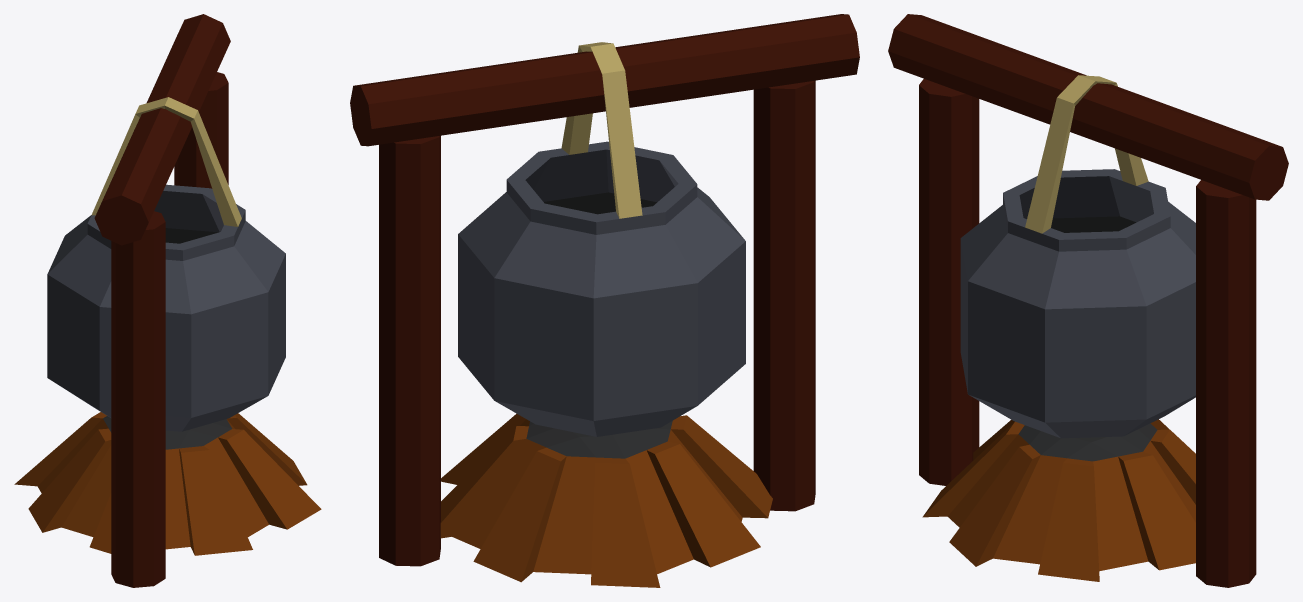
File: Campfire.fbx
3 renders of one model, left to right at view 1: azimuth 30°, elevation 25°; view 2: azimuth 150°, elevation 25°; view 3: azimuth 270°, elevation 25°, orthographic. The views are drawn at different scales.
Parts seen in each view (by area): view 1: Cylinder.050, Cylinder.051, Cube.025; view 2: Cylinder.051, Cylinder.050, Cube.025; view 3: Cylinder.051, Cylinder.050, Cube.025.
Boxes of the visible parts, x1=… form: Cylinder.050: x1=47, y1=97, x2=285, y2=431; Cylinder.051: x1=94, y1=14, x2=230, y2=587; Cube.025: x1=14, y1=412, x2=321, y2=555; Cylinder.051: x1=350, y1=14, x2=859, y2=566; Cylinder.050: x1=458, y1=42, x2=745, y2=436; Cube.025: x1=440, y1=413, x2=772, y2=587; Cylinder.051: x1=888, y1=14, x2=1288, y2=587; Cylinder.050: x1=960, y1=75, x2=1195, y2=438; Cube.025: x1=922, y1=419, x2=1195, y2=581.
Bounding box in the file's own units: 162 × 222 × 181.
